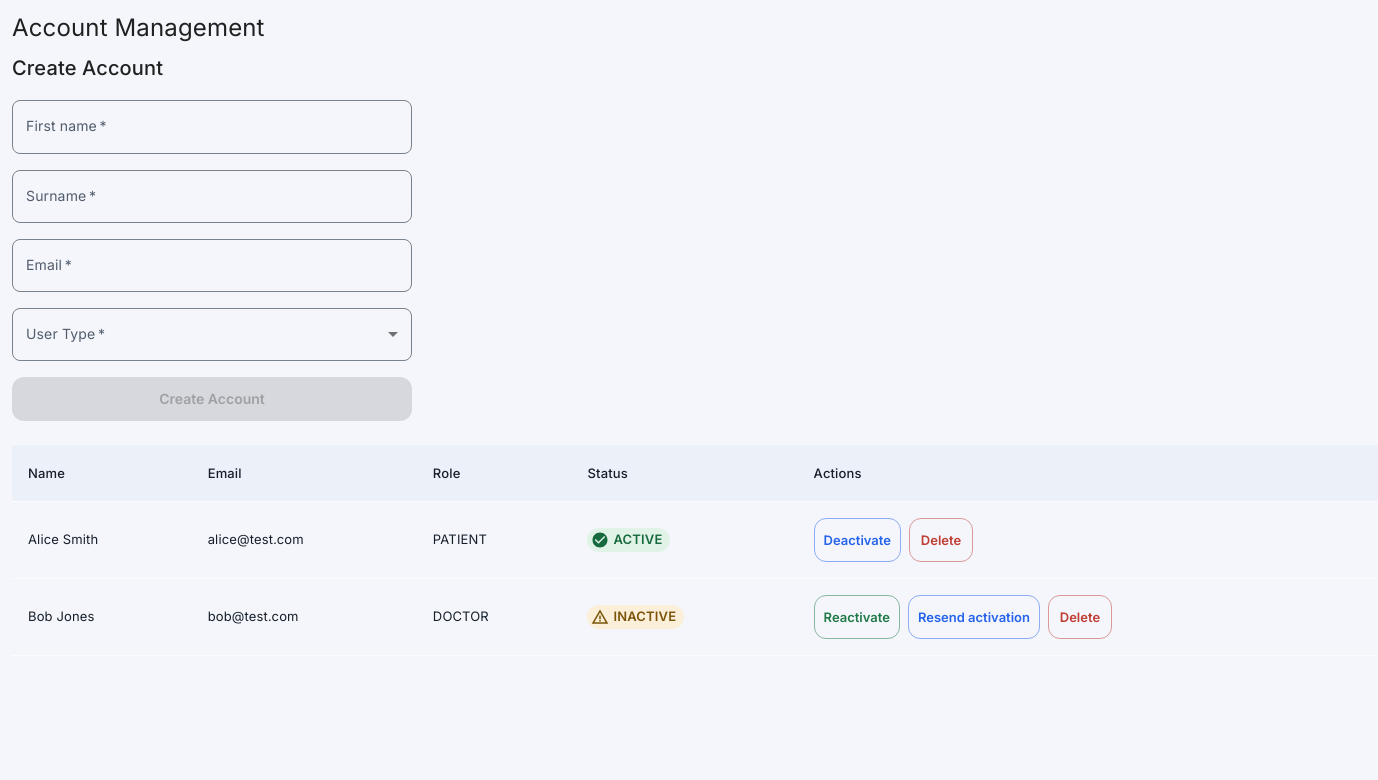
Test case: AccountsPage › an admin can resend an activation email for an inactive account
Expected: the text "Bob Jones" is shown, [12, 578, 192, 655]
Step 1. Click the button "Resend activation" → coordinates (974, 617), box [908, 595, 1040, 639]
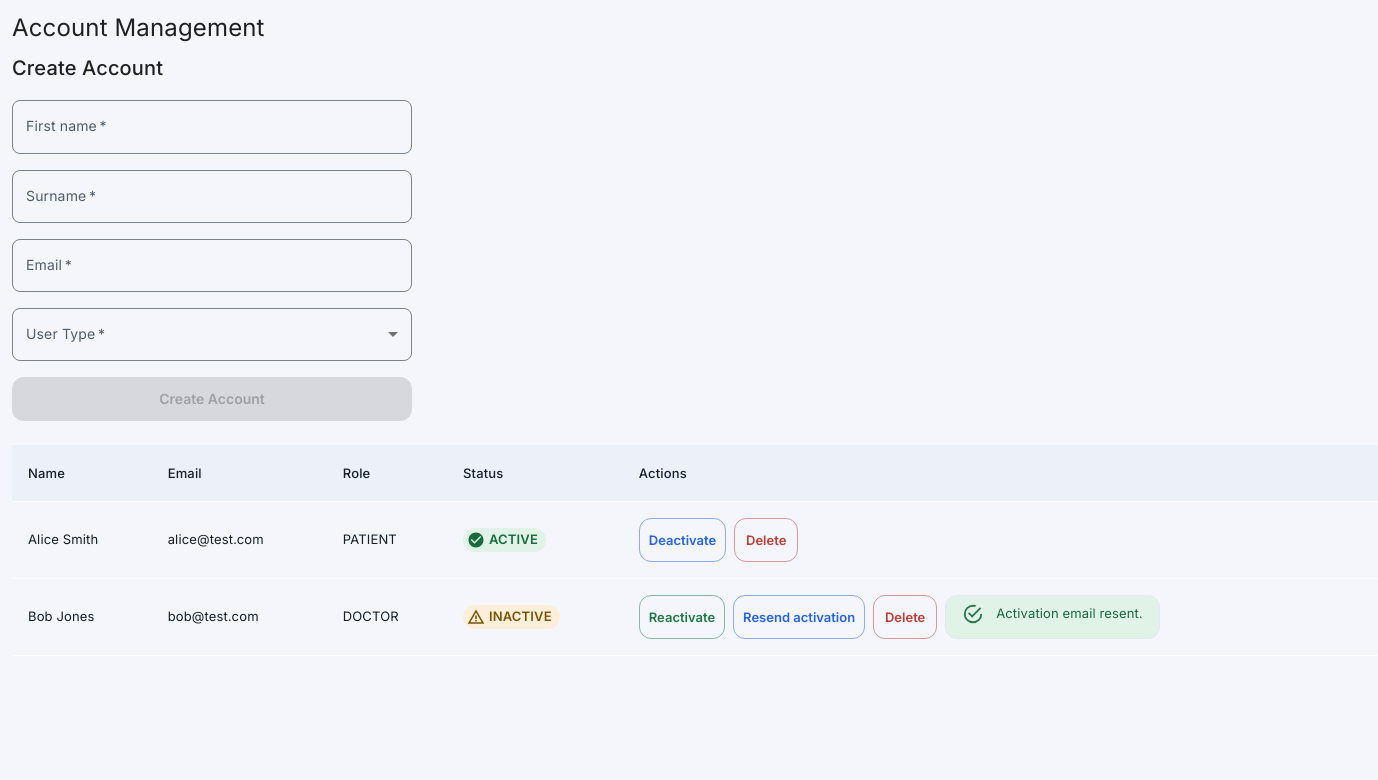
Result: the text "Activation email resent." is shown at [996, 605, 1143, 621]
